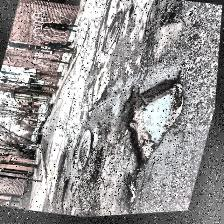pothole: (113, 72, 194, 174), (122, 180, 146, 216), (58, 180, 80, 212), (157, 7, 187, 30)
